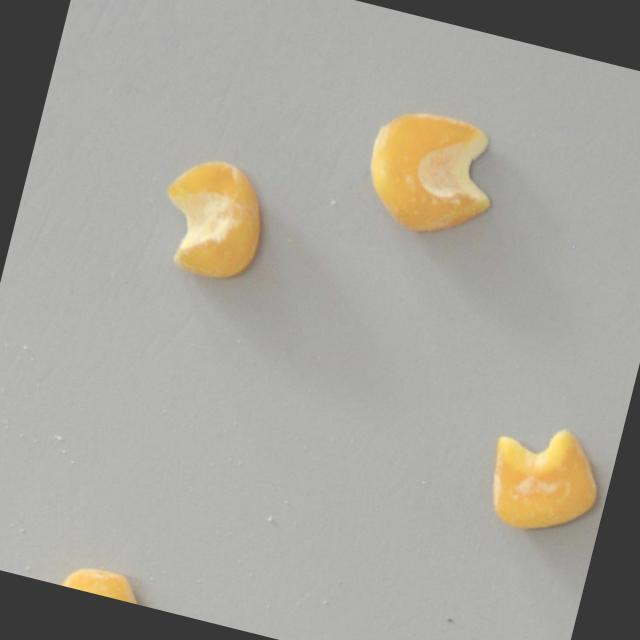pelicula: (347, 93, 517, 256), (144, 144, 281, 292), (474, 410, 614, 549), (47, 554, 151, 606)
